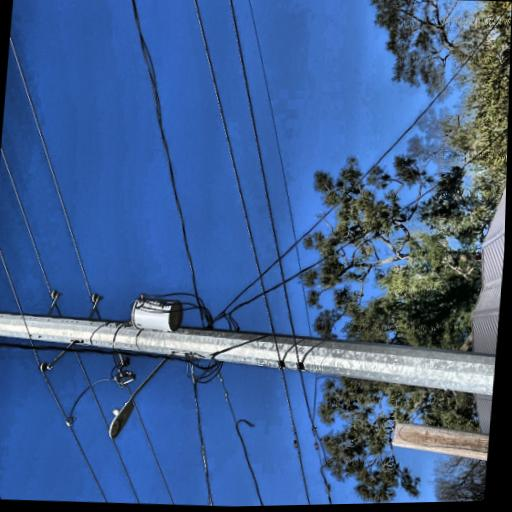pole: (0, 0, 75, 501)
street light: (0, 255, 9, 343)
transformer: (18, 273, 52, 332)
